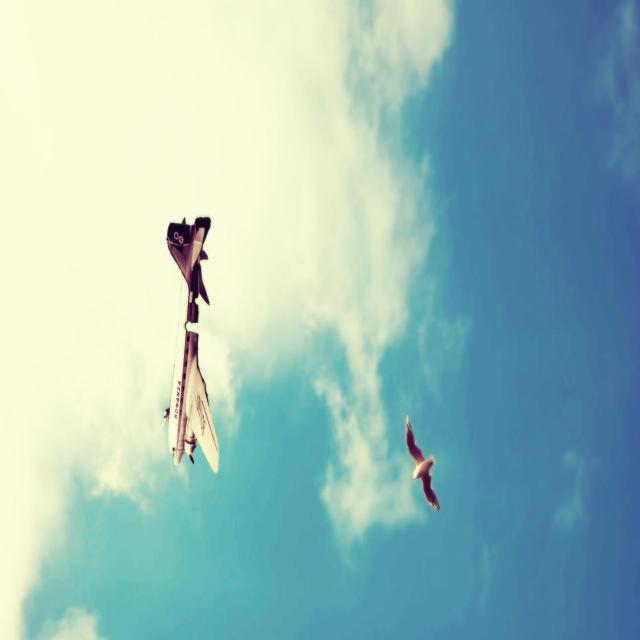airplane: (162, 214, 220, 473)
